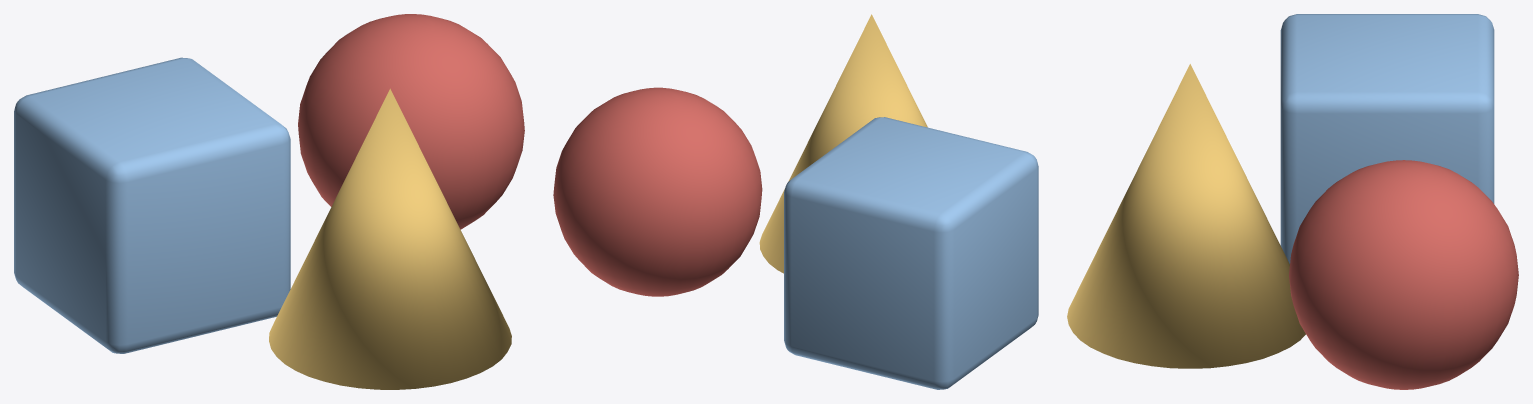
File: products--da-icons.glb
The picture shows the model from 3 angles, left to right: view 1: azimuth 30°, elevation 25°; view 2: azimuth 150°, elevation 25°; view 3: azimuth 270°, elevation 25°; orthographic projection. The views are drawn at different scales.
Visible parts, largest first — view 1: products--da-icons; view 2: products--da-icons; view 3: products--da-icons.
Boxes of the visible parts, x1=… form: products--da-icons: x1=14, y1=14, x2=524, y2=389; products--da-icons: x1=553, y1=14, x2=1038, y2=389; products--da-icons: x1=1067, y1=14, x2=1518, y2=389.
Bounding box in the file's own units: 0.6499 × 0.3401 × 0.5498.
